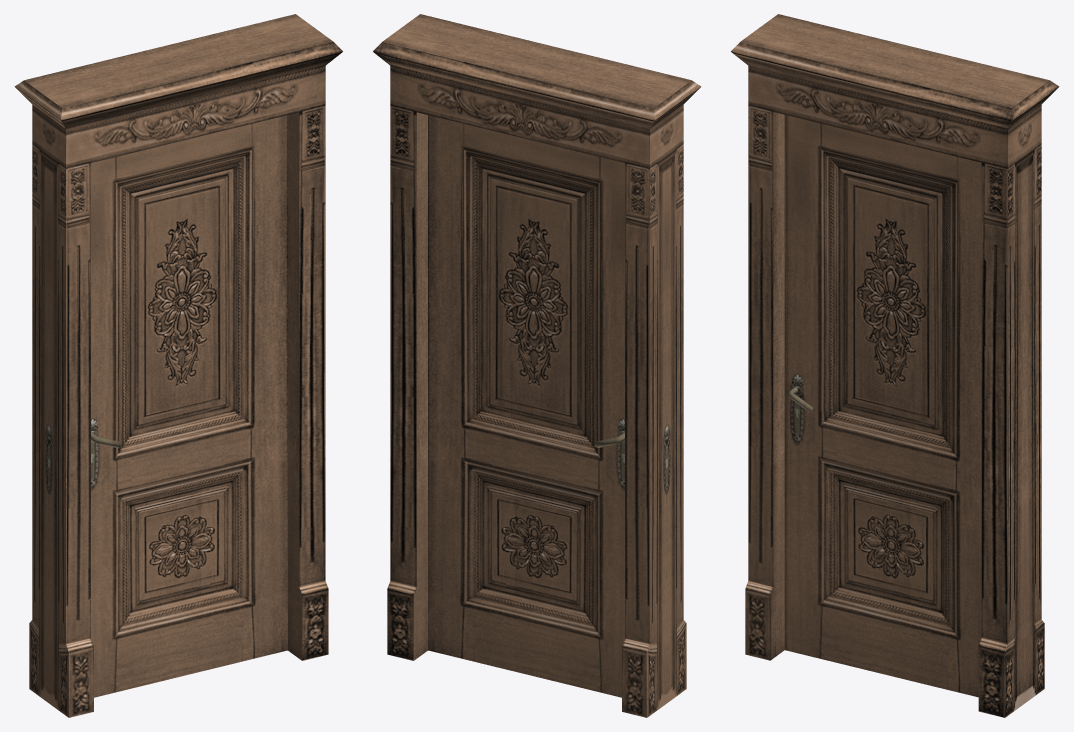
File: DoorInt1A.fbx
The picture shows the model from 3 angles, left to right: view 1: azimuth 30°, elevation 25°; view 2: azimuth 150°, elevation 25°; view 3: azimuth 330°, elevation 25°; orthographic projection.
Parts seen in each view (by area): view 1: DoorInt1Adoor, DoorInt1A; view 2: DoorInt1Adoor, DoorInt1A; view 3: DoorInt1Adoor, DoorInt1A.
Part boxes in pixels (x1,y1,x2,y2): DoorInt1Adoor: (91, 115, 287, 697); DoorInt1A: (14, 14, 342, 717); DoorInt1Adoor: (428, 115, 624, 697); DoorInt1A: (373, 14, 701, 717); DoorInt1Adoor: (784, 115, 981, 697); DoorInt1A: (731, 14, 1059, 717).
Size of the model in its own units: 136 by 281 by 38.66.
